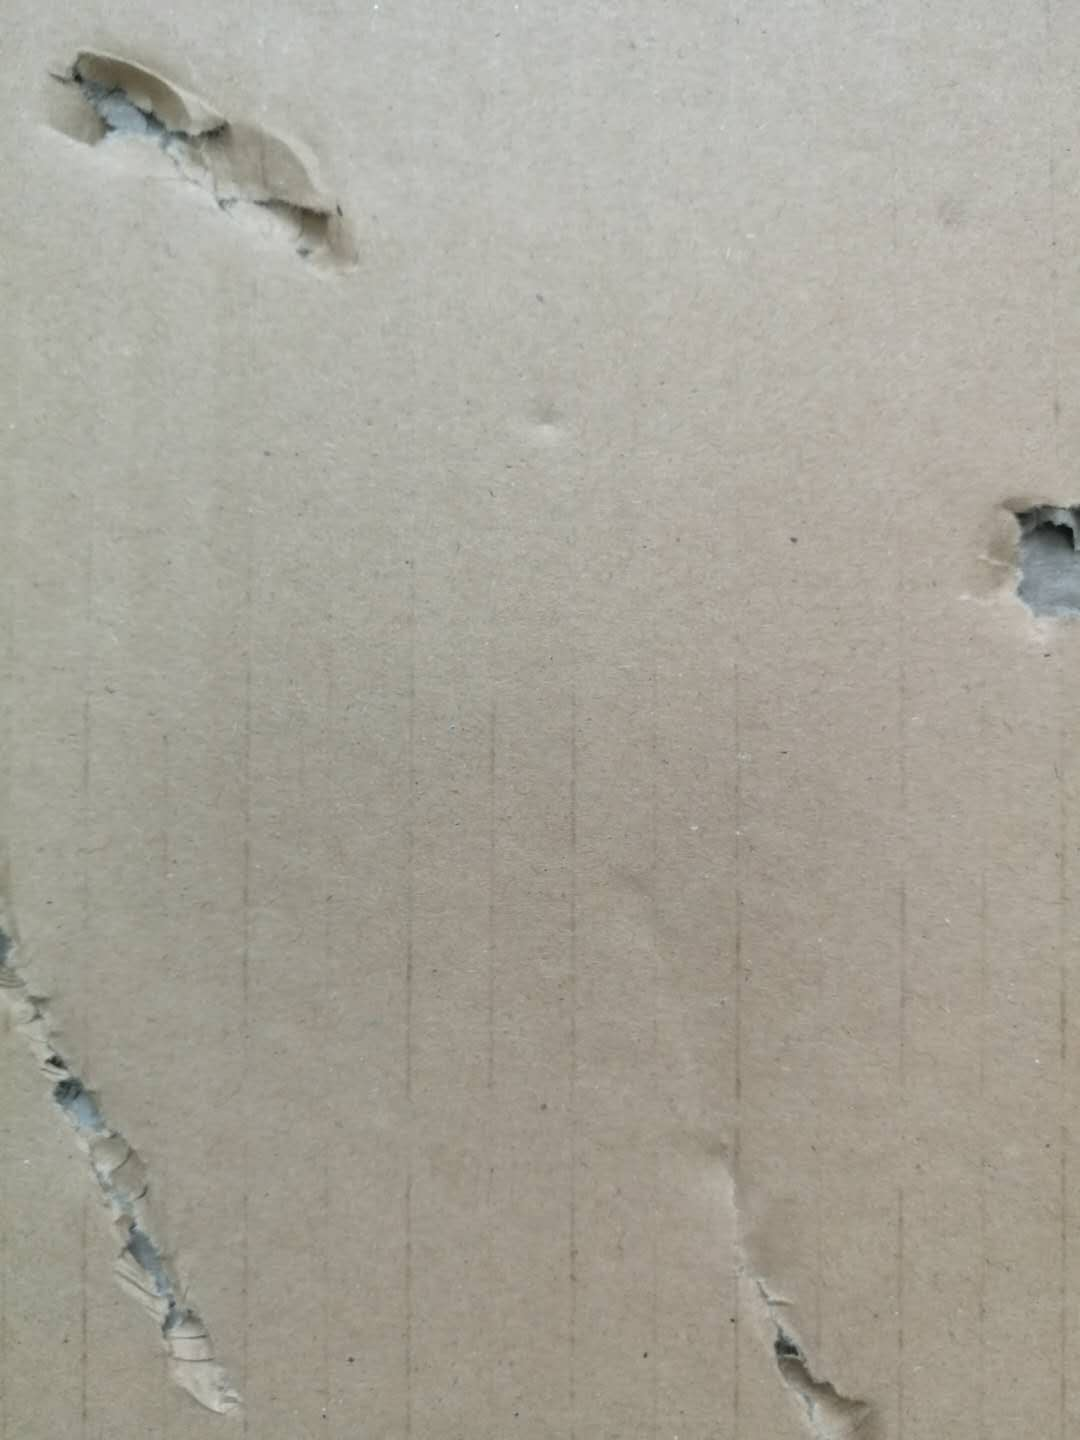defect: (2, 855, 289, 1438), (22, 25, 389, 295), (680, 1119, 908, 1440), (945, 461, 1080, 639)
